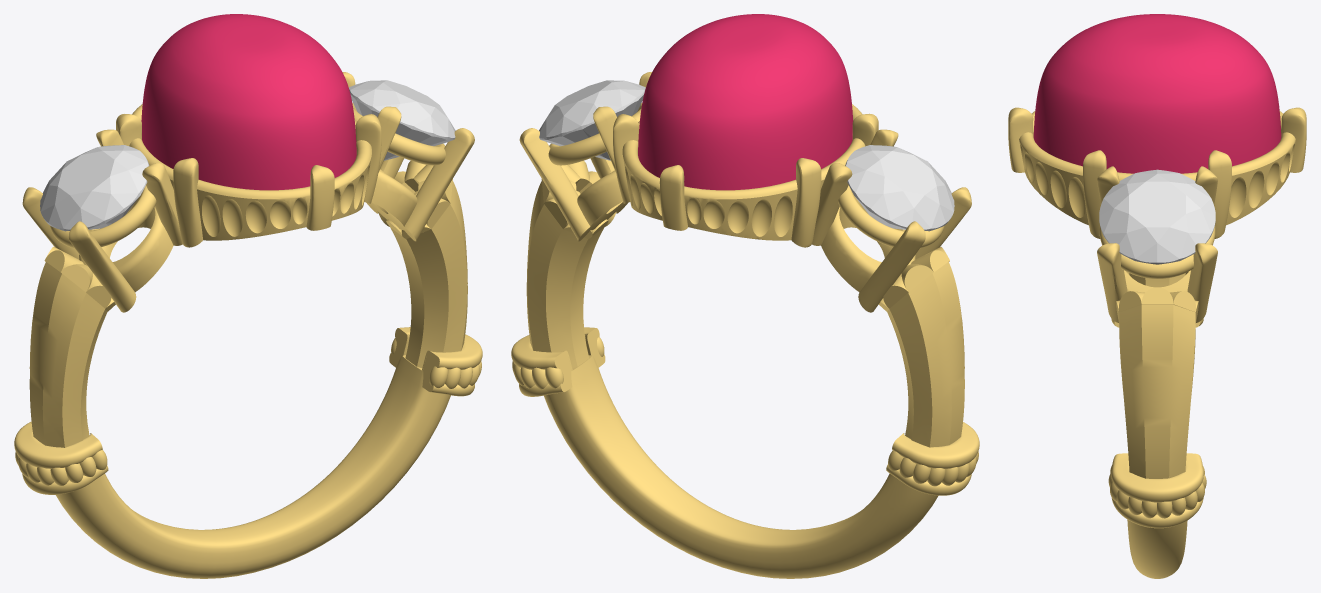
File: NicholasV2_blender.glb
3 renders of one model, left to right at view 1: azimuth 30°, elevation 25°; view 2: azimuth 150°, elevation 25°; view 3: azimuth 270°, elevation 25°, orthographic.
Parts seen in each view (by area): view 1: v2 Nick YG for 3d model, Nicholas ruby for 3d model, Nicholas dia for 3d model.001, Nicholas dia for 3d model; view 2: v2 Nick YG for 3d model, Nicholas ruby for 3d model, Nicholas dia for 3d model.001, Nicholas dia for 3d model; view 3: v2 Nick YG for 3d model, Nicholas ruby for 3d model, Nicholas dia for 3d model.
Part boxes in pixels (x1,y1,x2,y2): v2 Nick YG for 3d model: (14,72,482,578); Nicholas ruby for 3d model: (141,14,356,190); Nicholas dia for 3d model.001: (40,145,149,231); Nicholas dia for 3d model: (349,80,455,160); v2 Nick YG for 3d model: (511,72,979,578); Nicholas ruby for 3d model: (638,14,853,190); Nicholas dia for 3d model.001: (845,145,954,231); Nicholas dia for 3d model: (539,80,645,160); v2 Nick YG for 3d model: (1008,107,1306,578); Nicholas ruby for 3d model: (1033,14,1281,173); Nicholas dia for 3d model: (1099,169,1215,264).
Size of the model in its own units: 20.78 by 23.39 by 12.03.
